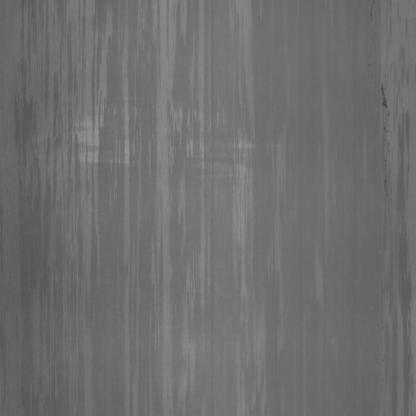inclusion: (380, 73, 394, 193)
water_spot: (20, 1, 190, 402), (204, 16, 301, 350), (390, 8, 416, 416)
